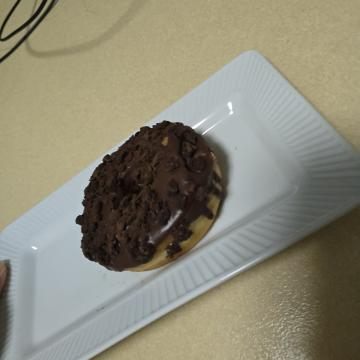doughnut: (109, 127, 288, 296)
